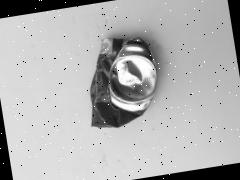metal: (56, 10, 198, 176)
